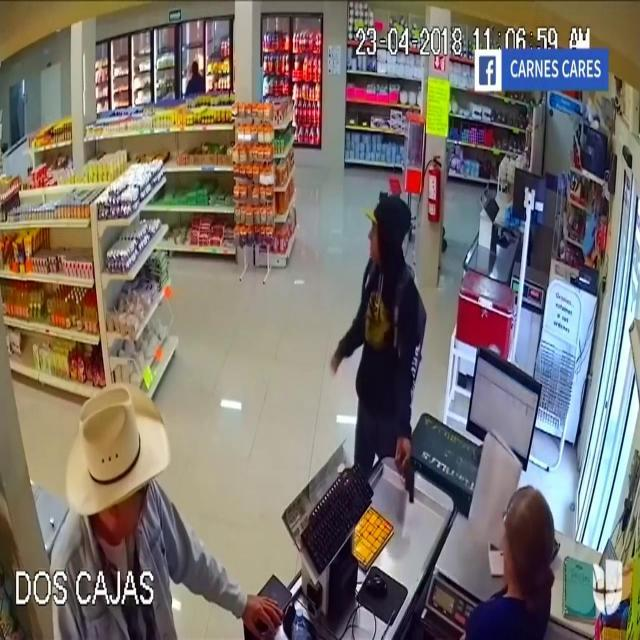weapon: (394, 450, 422, 520)
